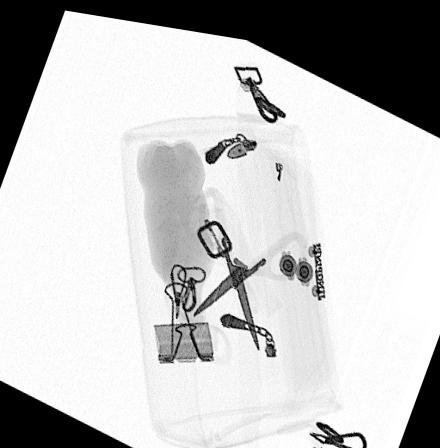Scissors: (191, 179, 309, 344)
